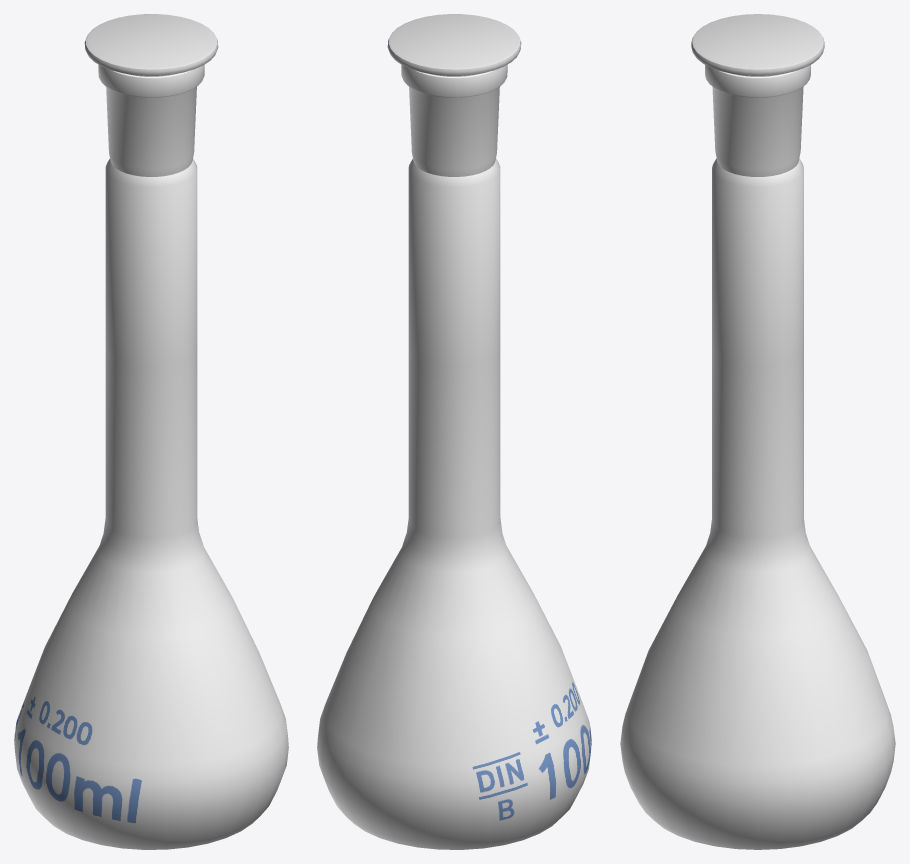
The model's file is volumetric flask_100ml.fbx.
3 views of the same model, side by side, from view 1: azimuth 30°, elevation 25°; view 2: azimuth 150°, elevation 25°; view 3: azimuth 270°, elevation 25° (orthographic).
Visible parts, largest first — view 1: volumetric flask, volumetric flask_stopper; view 2: volumetric flask, volumetric flask_stopper; view 3: volumetric flask, volumetric flask_stopper.
Boxes of the visible parts, x1,y1,x2,y2 form: volumetric flask: (14,64,288,849); volumetric flask_stopper: (84,14,218,76); volumetric flask: (317,64,591,849); volumetric flask_stopper: (387,14,521,76); volumetric flask: (620,65,895,849); volumetric flask_stopper: (691,14,824,76).
Size of the model in its own units: 5.98 by 18.35 by 5.98.
3 materials, 2 textured.
